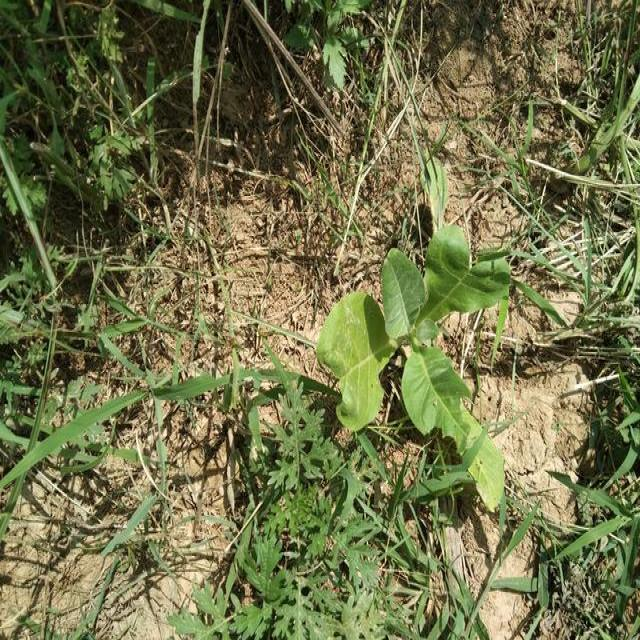crop: (315, 223, 506, 520)
